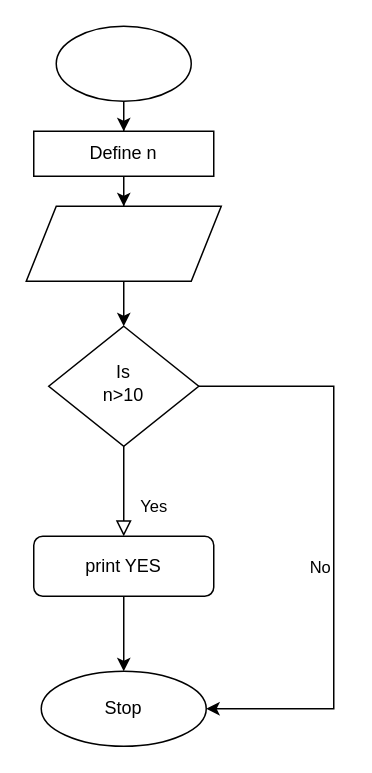
Image size: 372x773. Some labels were removed from this diagram. Each missing label, with the box of its shape:
input number and store it in n: (25, 205, 221, 281)
Start: (55, 25, 191, 101)
